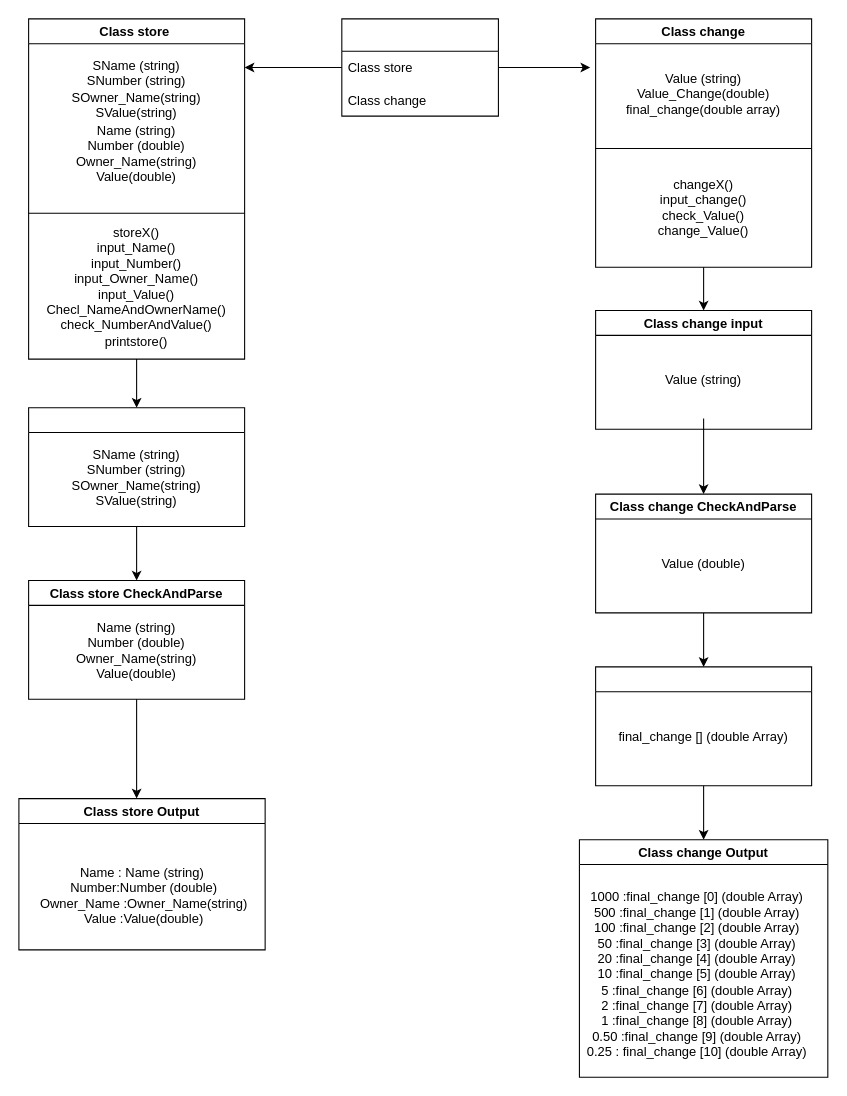
Image size: 847x1096. Some labels were removed from this diagram. Here are the shapes that lost their labels. From the top down, the box of each, then its label:
(341, 18, 498, 116): class Program
(28, 407, 245, 526): Class store input
(595, 666, 812, 786): Class change ChangeValue
